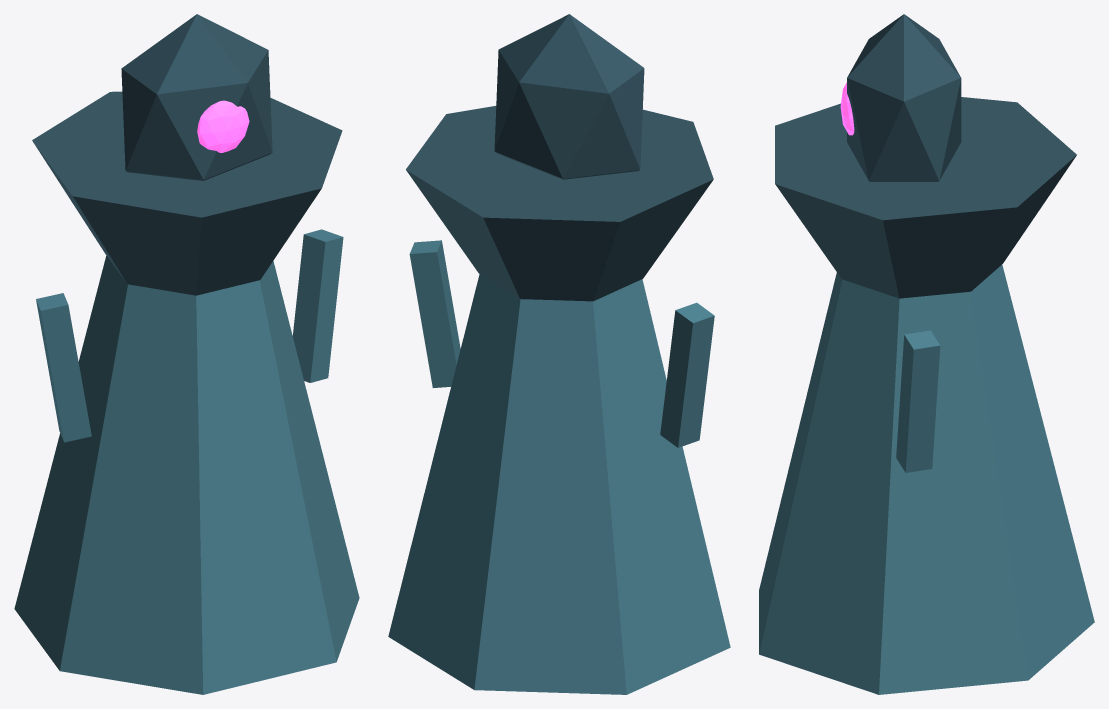
File: hollow.glb
The picture shows the model from 3 angles, left to right: view 1: azimuth 30°, elevation 25°; view 2: azimuth 150°, elevation 25°; view 3: azimuth 270°, elevation 25°; orthographic projection.
Visible parts, largest first — view 1: Torn memory, Inverted collar, Empty face, Broken arm.001, Broken arm, Hungry index; view 2: Torn memory, Inverted collar, Empty face, Broken arm, Broken arm.001; view 3: Torn memory, Inverted collar, Empty face, Broken arm.001.
Part boxes in pixels (x1,y1,x2,y2): Torn memory: (14, 256, 359, 694); Inverted collar: (32, 91, 342, 295); Empty face: (121, 14, 272, 180); Broken arm.001: (292, 229, 343, 382); Broken arm: (36, 293, 91, 442); Hungry index: (197, 100, 249, 152); Torn memory: (388, 274, 730, 694); Inverted collar: (406, 106, 713, 301); Empty face: (494, 14, 644, 179); Broken arm: (660, 302, 714, 447); Broken arm.001: (409, 240, 460, 387); Torn memory: (759, 264, 1094, 694); Inverted collar: (775, 97, 1076, 298); Empty face: (847, 14, 961, 181); Broken arm.001: (896, 330, 940, 472).
Size of the model in its own units: 0.9845 by 1.9 by 0.9505.
